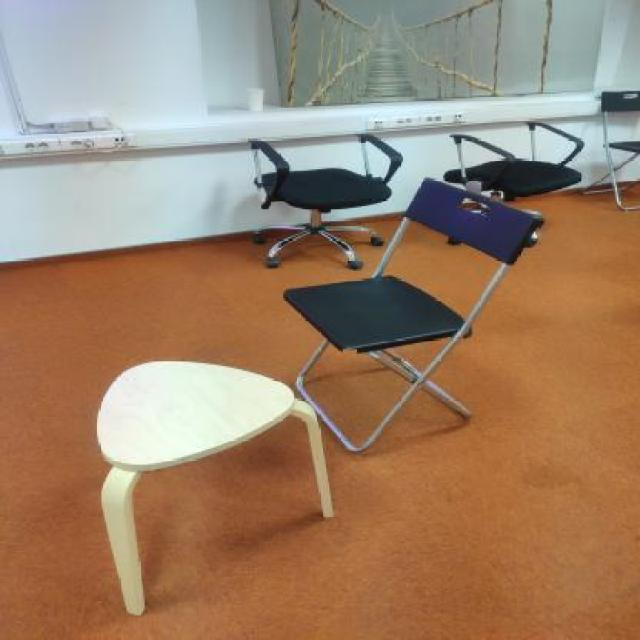chair: (284, 172, 550, 456), (237, 119, 411, 275), (438, 108, 596, 254)
